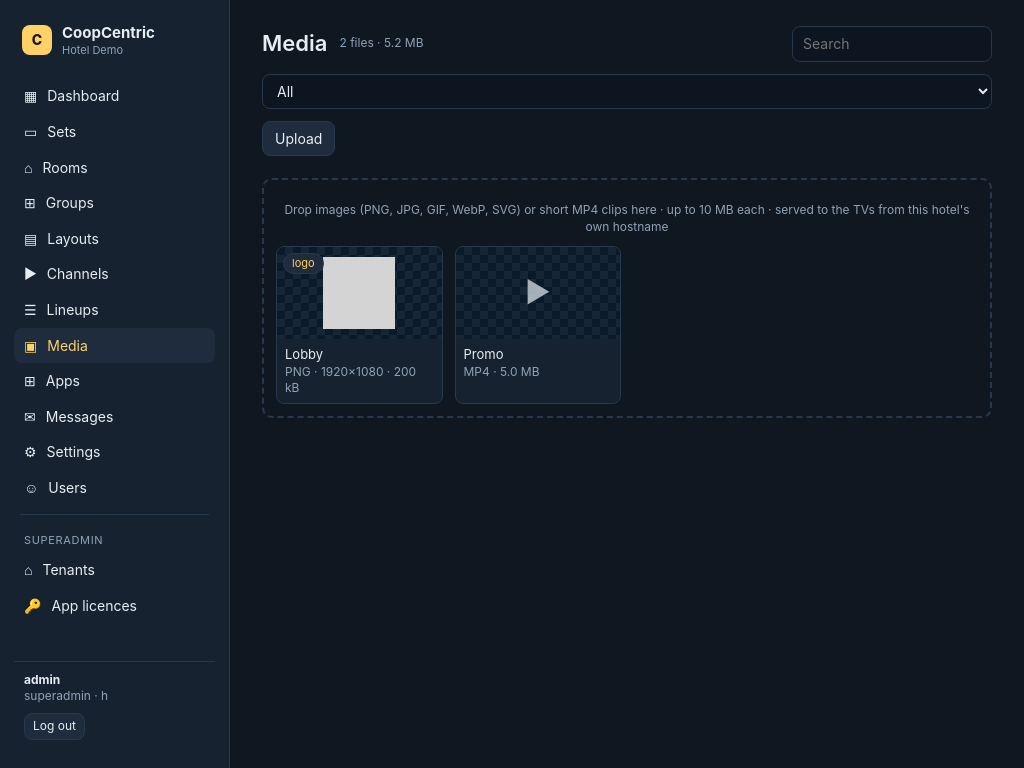
Test: B1 media library › "Use as hotel logo" patches settings.logo_url
The image size is (1024, 768).
Check: the text "Promo" is shown, box x1=464 y1=346 x2=504 y2=362
Click the button labelled "Lobby PNG · 1920×1080 · 200 kB logo" at (359, 325), box x1=276 y1=246 x2=442 y2=404
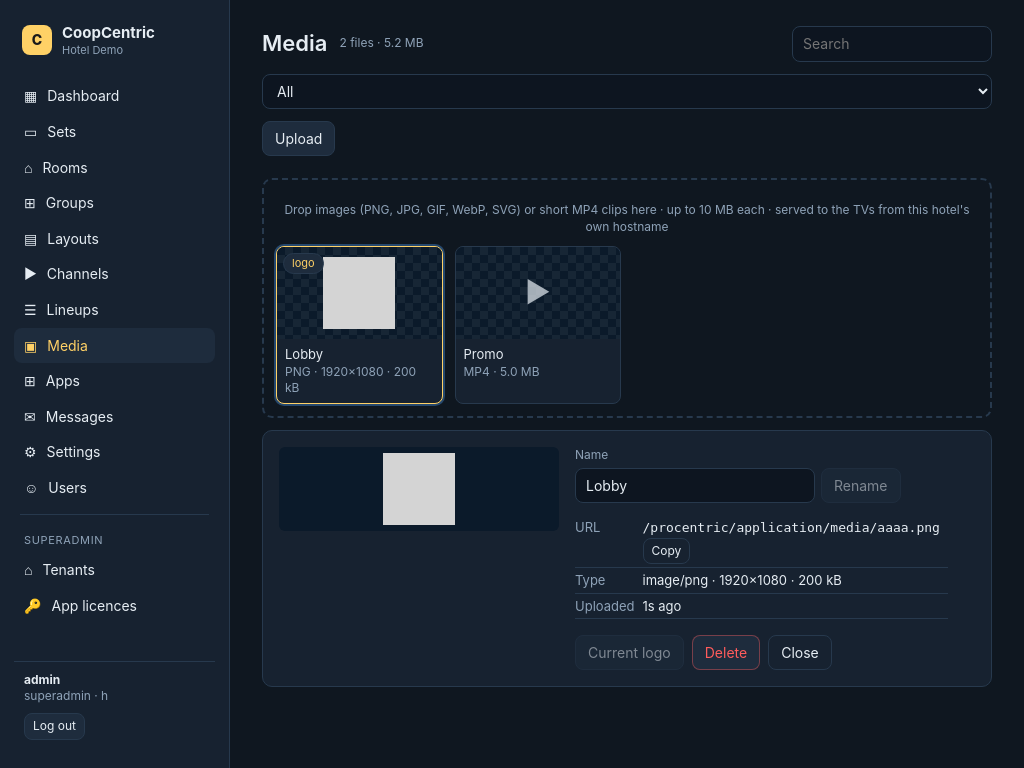
Check: the button "Current logo" is disabled, box x1=575 y1=635 x2=684 y2=670
